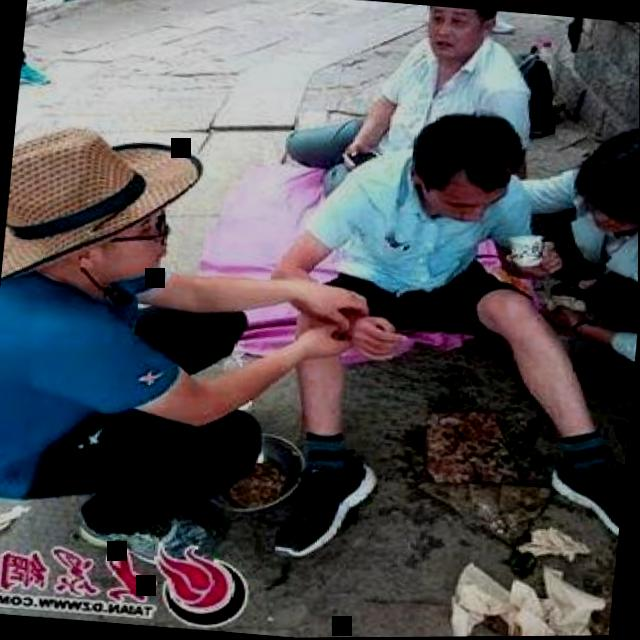Fall-Detected: (255, 87, 639, 570)
